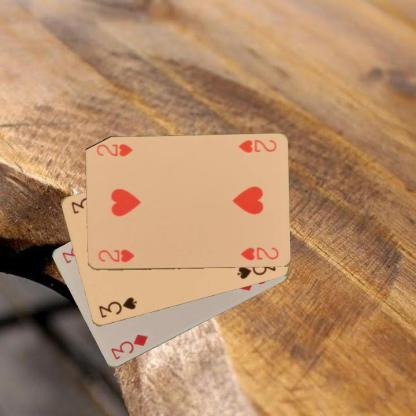2h: (96, 247, 136, 264), (236, 138, 277, 154)
3d: (108, 332, 150, 362)
3s: (96, 295, 138, 320)
